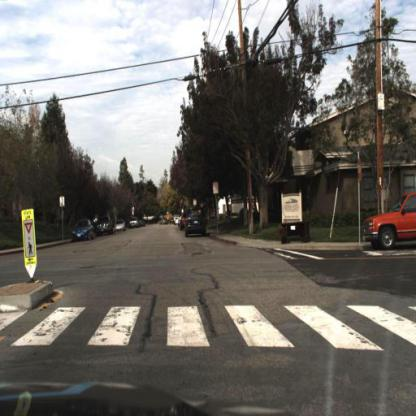car: (182, 207, 209, 240), (69, 217, 96, 246), (72, 219, 97, 247), (93, 214, 116, 238), (111, 216, 127, 233), (127, 214, 141, 232)
